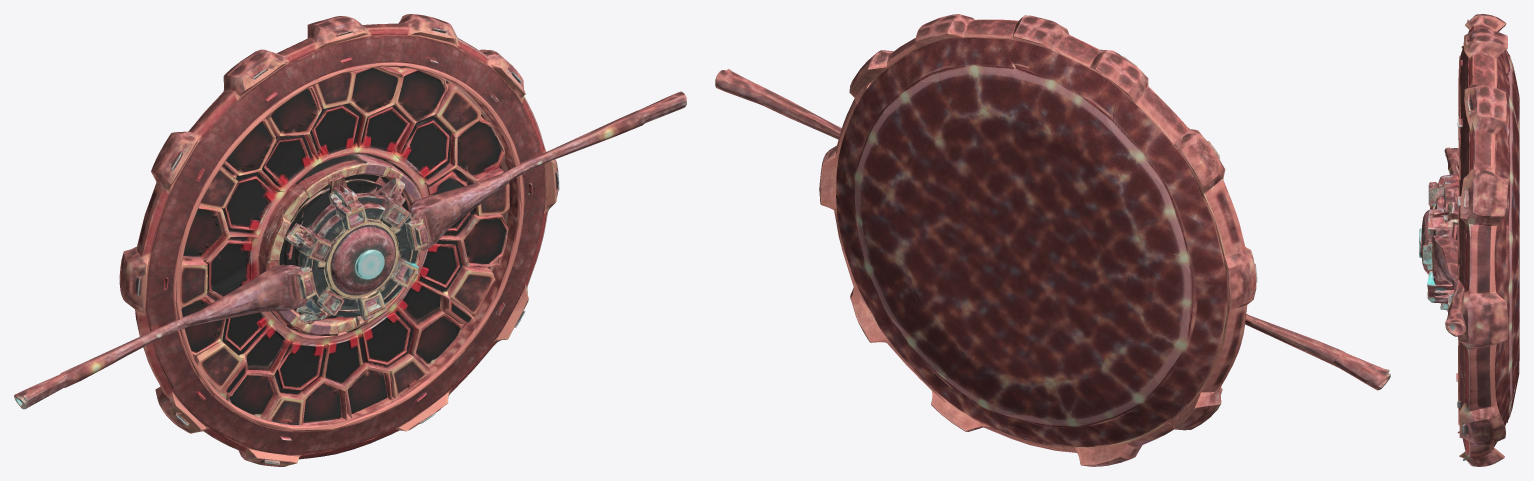
The model's file is reinforced_particle_shield.glb.
3 views of the same model, side by side, from view 1: azimuth 30°, elevation 25°; view 2: azimuth 150°, elevation 25°; view 3: azimuth 270°, elevation 25° (orthographic). The views are drawn at different scales.
Bounding box in the file's own units: 1.9 × 1.16 × 0.261.
1 material, 1 textured.
